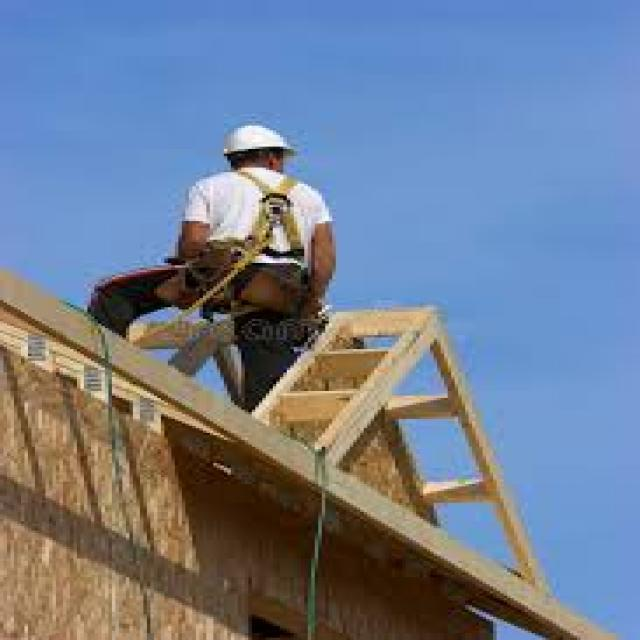belt: (164, 169, 304, 310)
